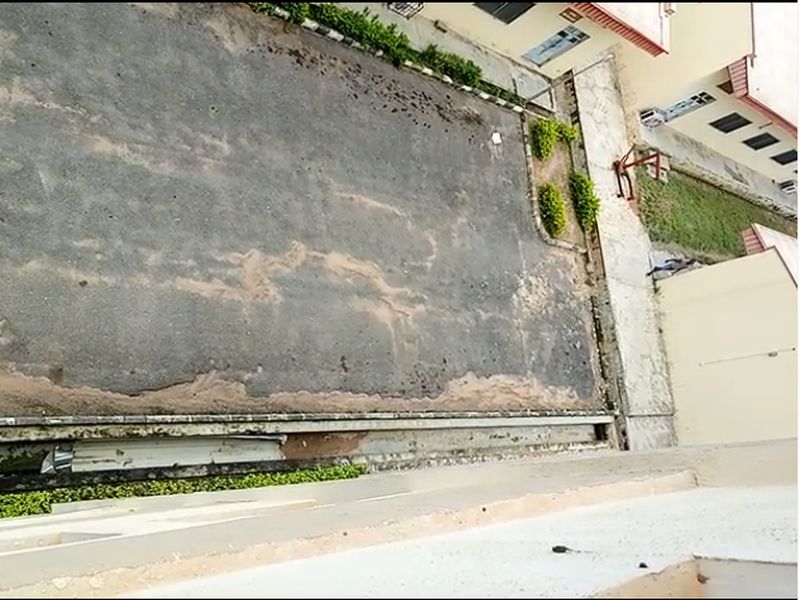five: (458, 66, 546, 240)
four: (301, 17, 401, 198)
